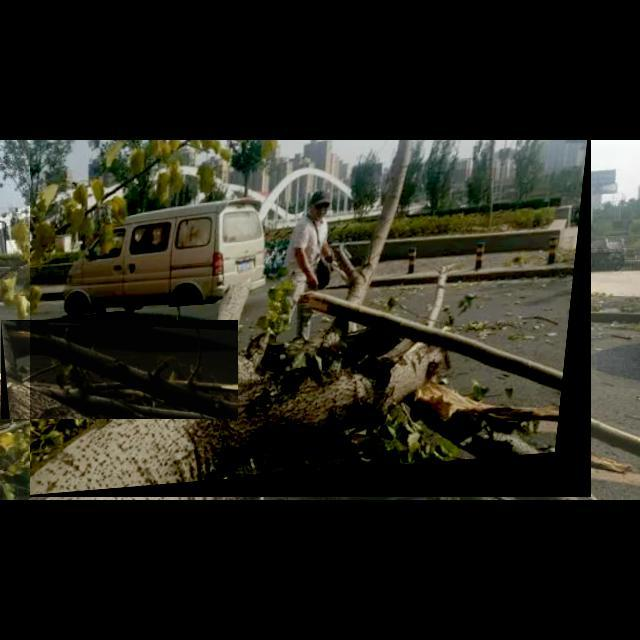fallen_tree: (30, 140, 592, 498), (1, 320, 239, 420)
